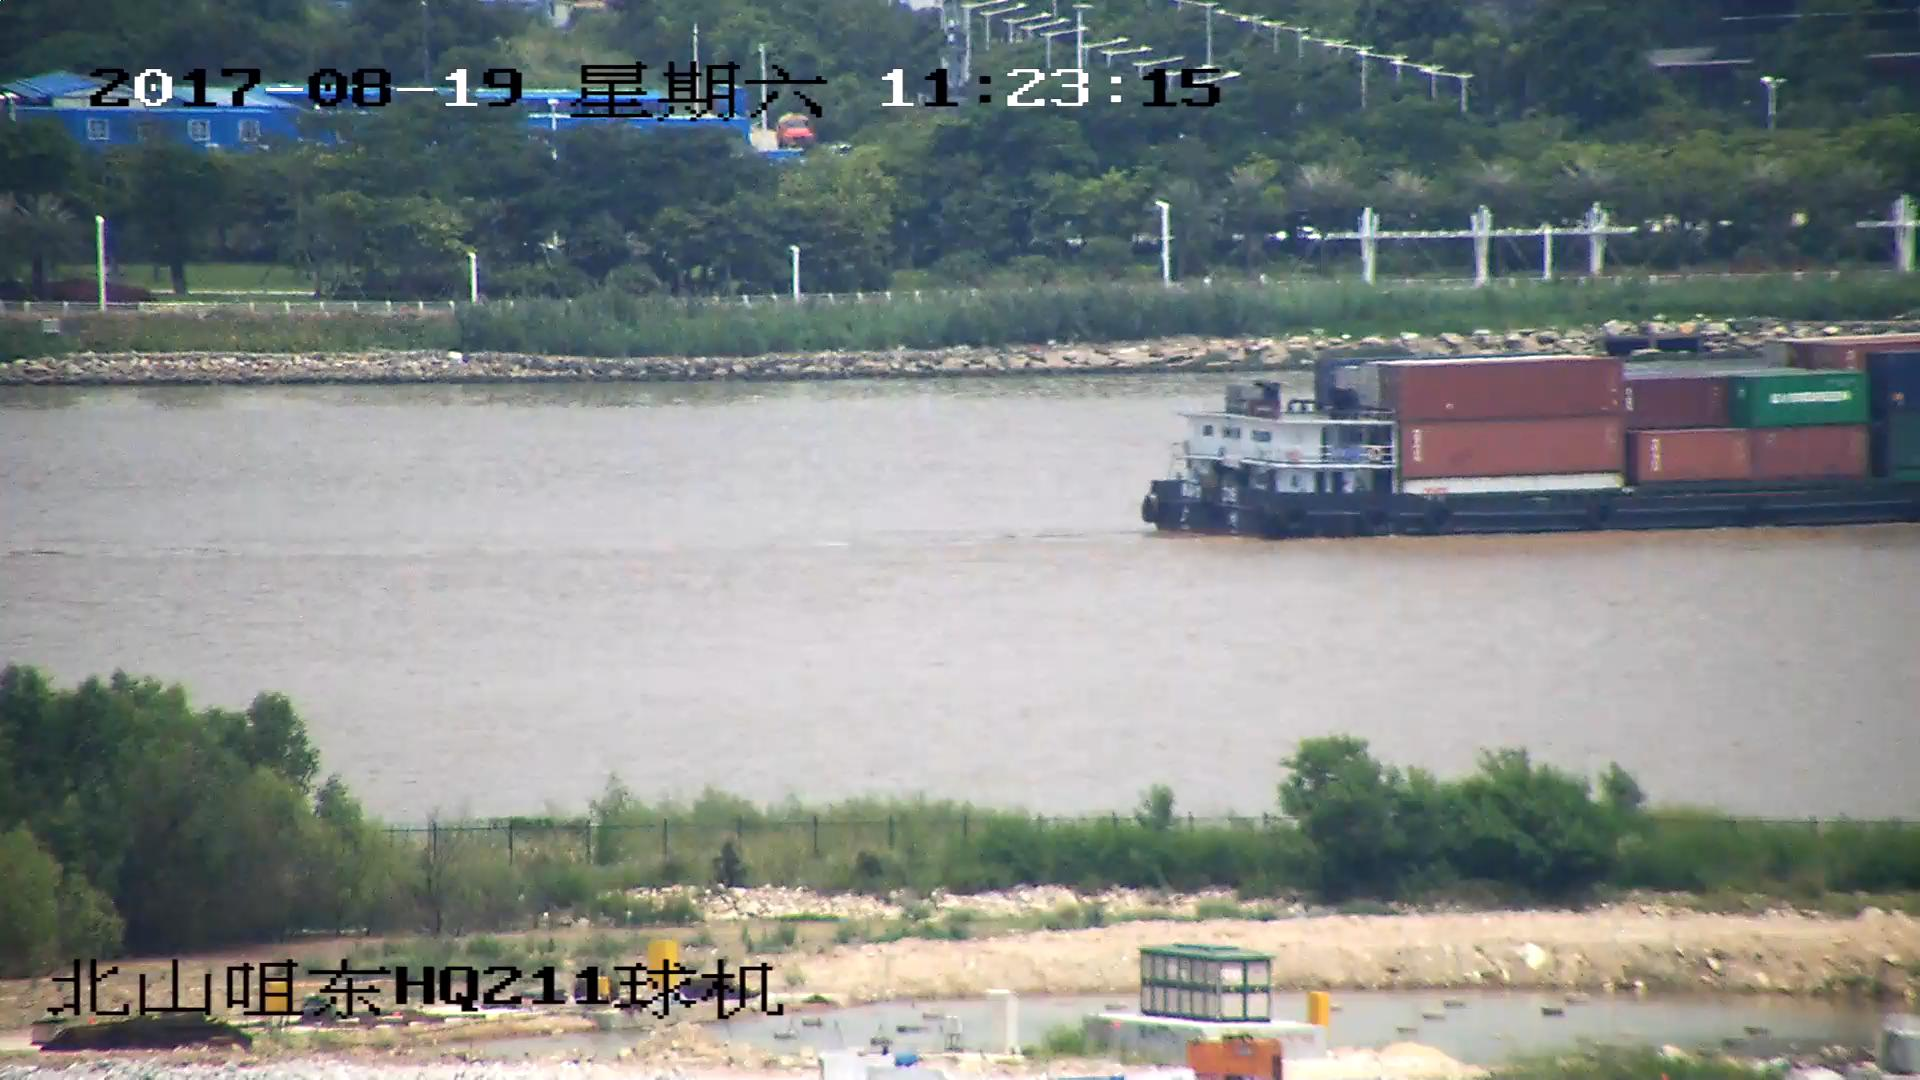container ship: (1146, 338, 1920, 539)
